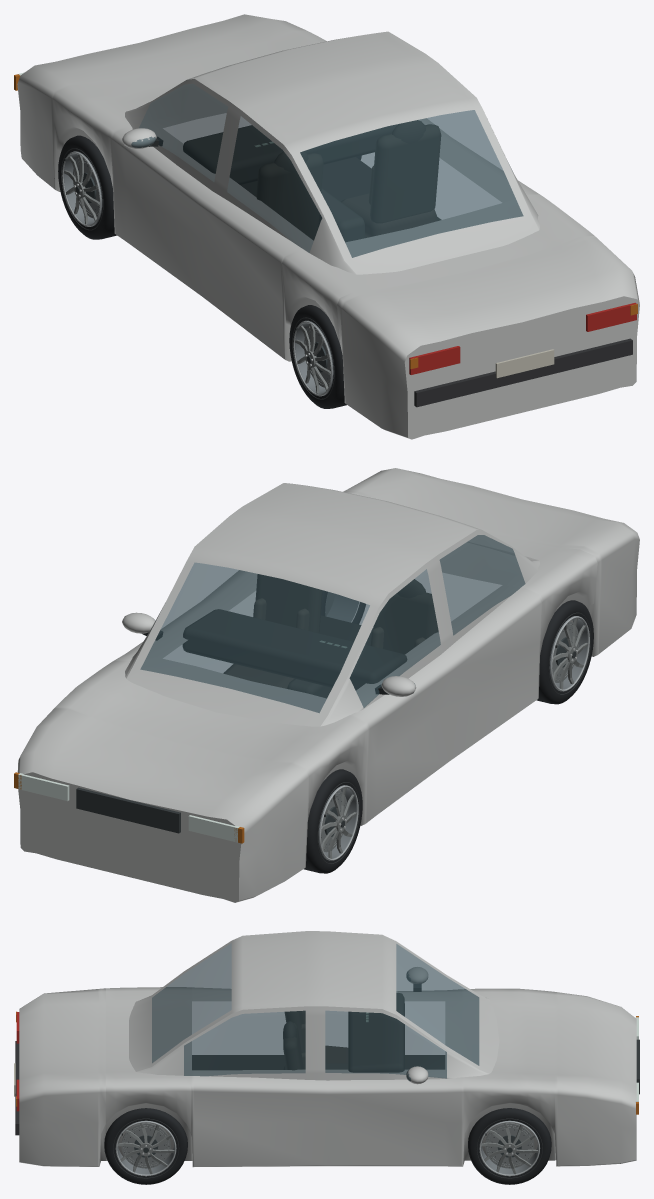
The model's file is bellmont.glb.
3 views of the same model, one above another, from view 1: azimuth 30°, elevation 25°; view 2: azimuth 150°, elevation 25°; view 3: azimuth 270°, elevation 25° (orthographic). The views are drawn at different scales.
Visible parts, largest first — view 1: paint, glass, trim, wheelSurface (×2), brake; view 2: paint, glass, trim, wheelSurface (×3), head; view 3: paint, glass, wheelSurface (×2), trim.
Part boxes in pixels (x1,y1,x2,y2): paint: [17, 14, 639, 439]; glass: [131, 84, 523, 257]; trim: [148, 120, 632, 407]; wheelSurface (×2): [58, 135, 346, 408]; brake: [409, 302, 636, 374]; paint: [17, 468, 639, 902]; glass: [140, 535, 525, 712]; trim: [76, 574, 438, 833]; wheelSurface (×3): [303, 590, 593, 873]; head: [18, 773, 239, 842]; paint: [19, 931, 636, 1167]; glass: [152, 943, 479, 1081]; wheelSurface (×2): [104, 1108, 551, 1184]; trim: [14, 984, 639, 1135].
Size of the model in its own units: 2.02 by 1.46 by 4.79.
